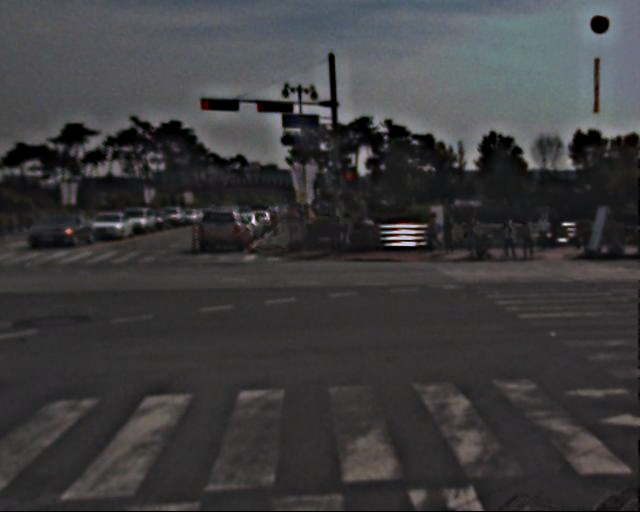person: (273, 204, 315, 247), (466, 214, 487, 265), (329, 206, 350, 257), (442, 211, 462, 259), (520, 215, 539, 262), (502, 216, 521, 262), (429, 209, 448, 255), (538, 215, 556, 260)
